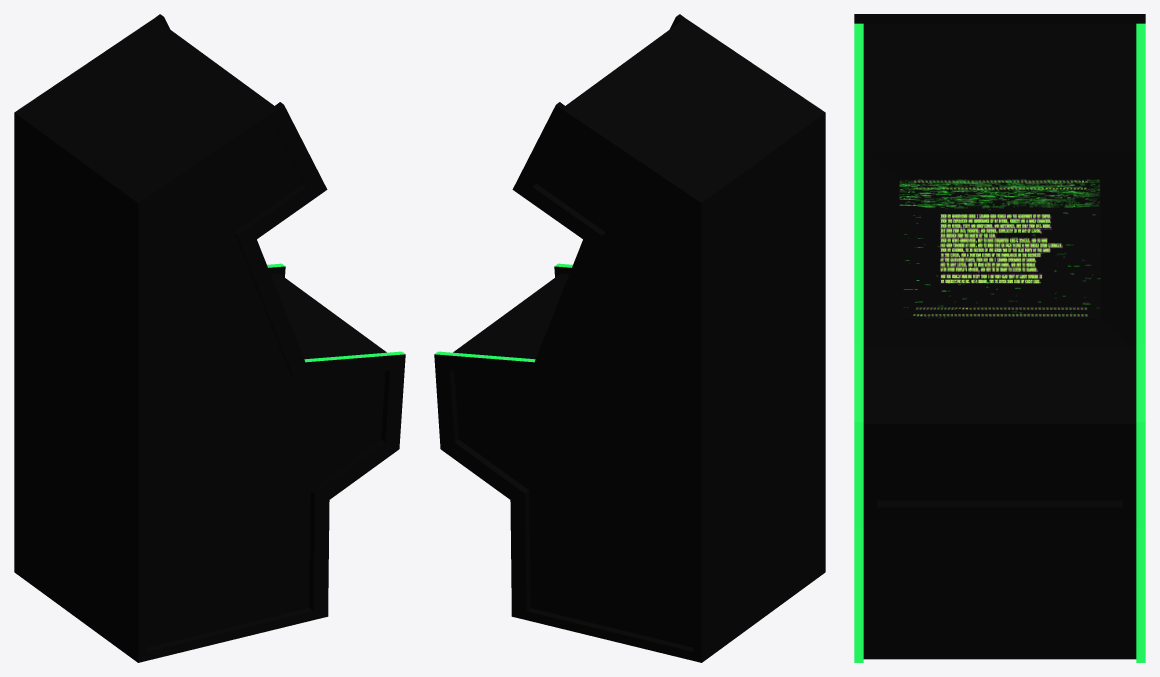
File: slot.glb
The picture shows the model from 3 angles, left to right: view 1: azimuth 30°, elevation 25°; view 2: azimuth 150°, elevation 25°; view 3: azimuth 270°, elevation 25°; orthographic projection. The views are drawn at different scales.
Parts seen in each view (by area): view 1: Jatekgep; view 2: Jatekgep; view 3: Jatekgep.
Boxes of the visible parts, x1,y1,x2,y2 form: Jatekgep: (14,14,405,662); Jatekgep: (434,14,825,662); Jatekgep: (854,14,1145,662).
Bounding box in the file's own units: 2.46 × 4.6 × 1.98.
3 materials, 1 textured.
